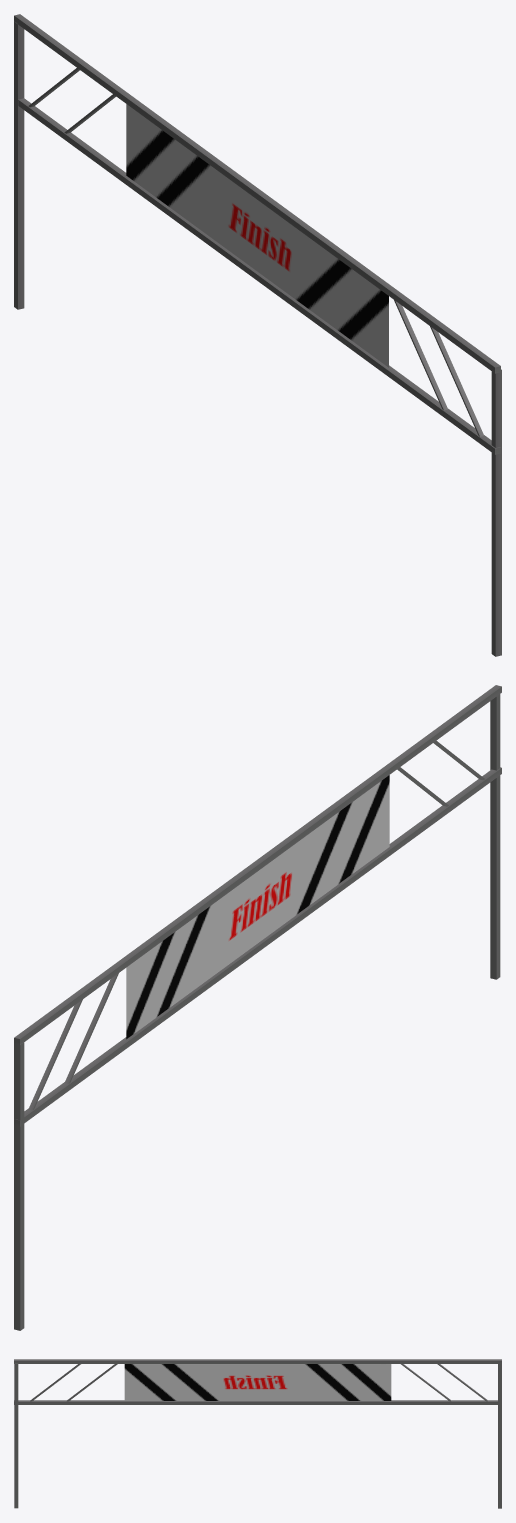
Rendered from Finish Line.fbx.
3 renders of one model, top to bottom at view 1: azimuth 30°, elevation 25°; view 2: azimuth 150°, elevation 25°; view 3: azimuth 270°, elevation 25°, orthographic. The views are drawn at different scales.
Parts seen in each view (by area): view 1: fINISH lINE, fINISH lINE.001; view 2: fINISH lINE, fINISH lINE.001; view 3: fINISH lINE.001, fINISH lINE.
Boxes of the visible parts, box(x1,y1,x2,y2) form: fINISH lINE: box(14, 14, 501, 656); fINISH lINE.001: box(126, 104, 388, 367); fINISH lINE: box(14, 685, 501, 1330); fINISH lINE.001: box(126, 775, 389, 1039); fINISH lINE.001: box(124, 1364, 391, 1400); fINISH lINE: box(14, 1359, 501, 1508).
Bounding box in the file's own units: 21.72 × 795 × 2380.
